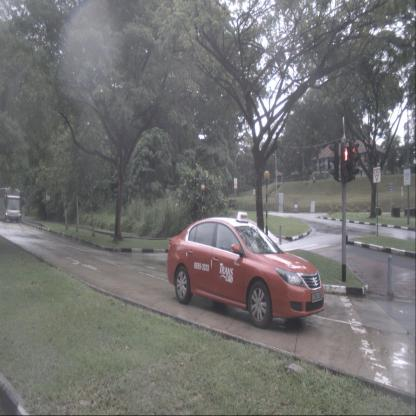vehicle-car: (167, 217, 324, 330)
vehicle-truck: (0, 186, 22, 223)
